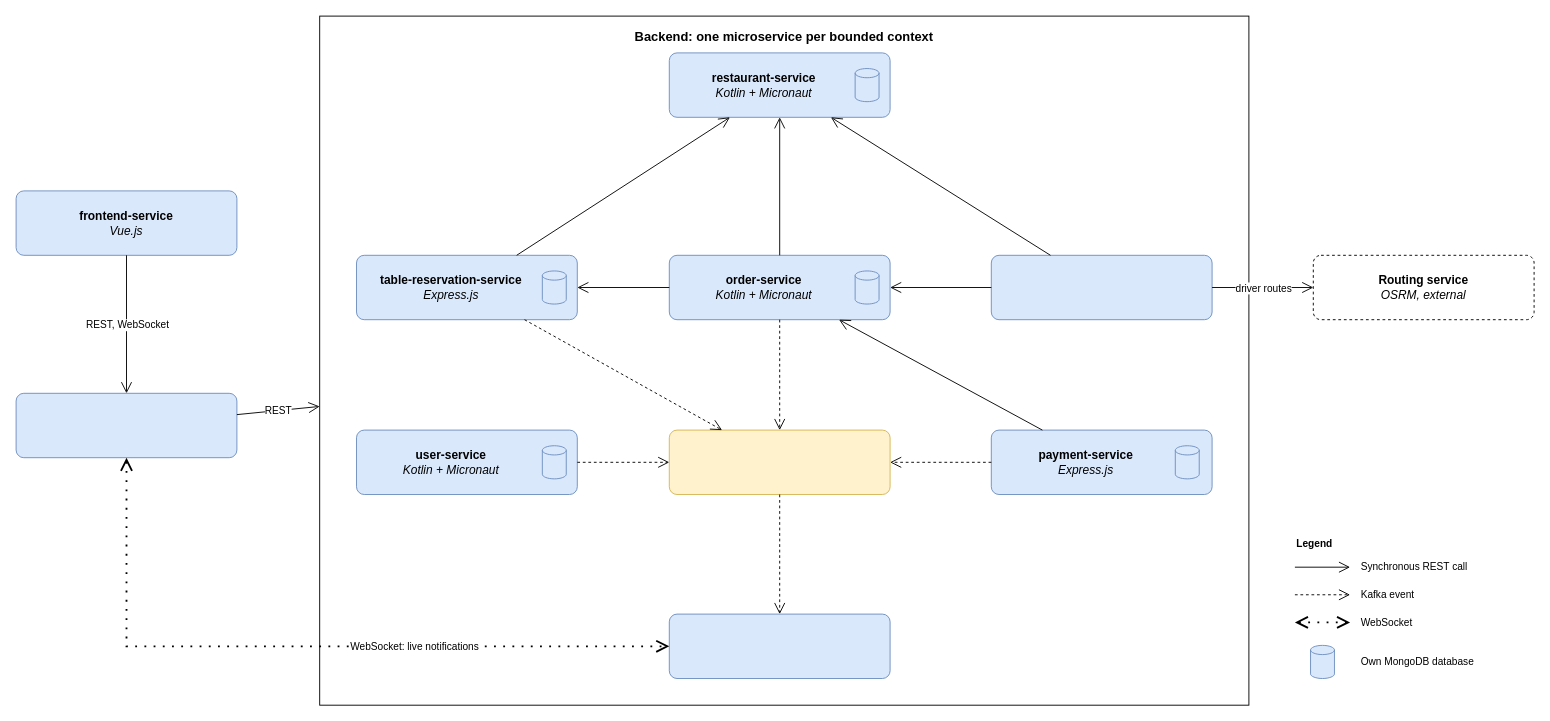
This 1550x721 diagram has some shape labels left out. The centre of each missing label's shape, as x and y in pixels:
gateway-service Express.js, API Gateway: the point at 126,425
Kafka one topic per notification-bound event: the point at 779,461
notification-service Express.js: the point at 779,645
scheduler-service Express.js, state in memory: the point at 1101,287
